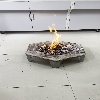fire: (42, 23, 66, 55)
